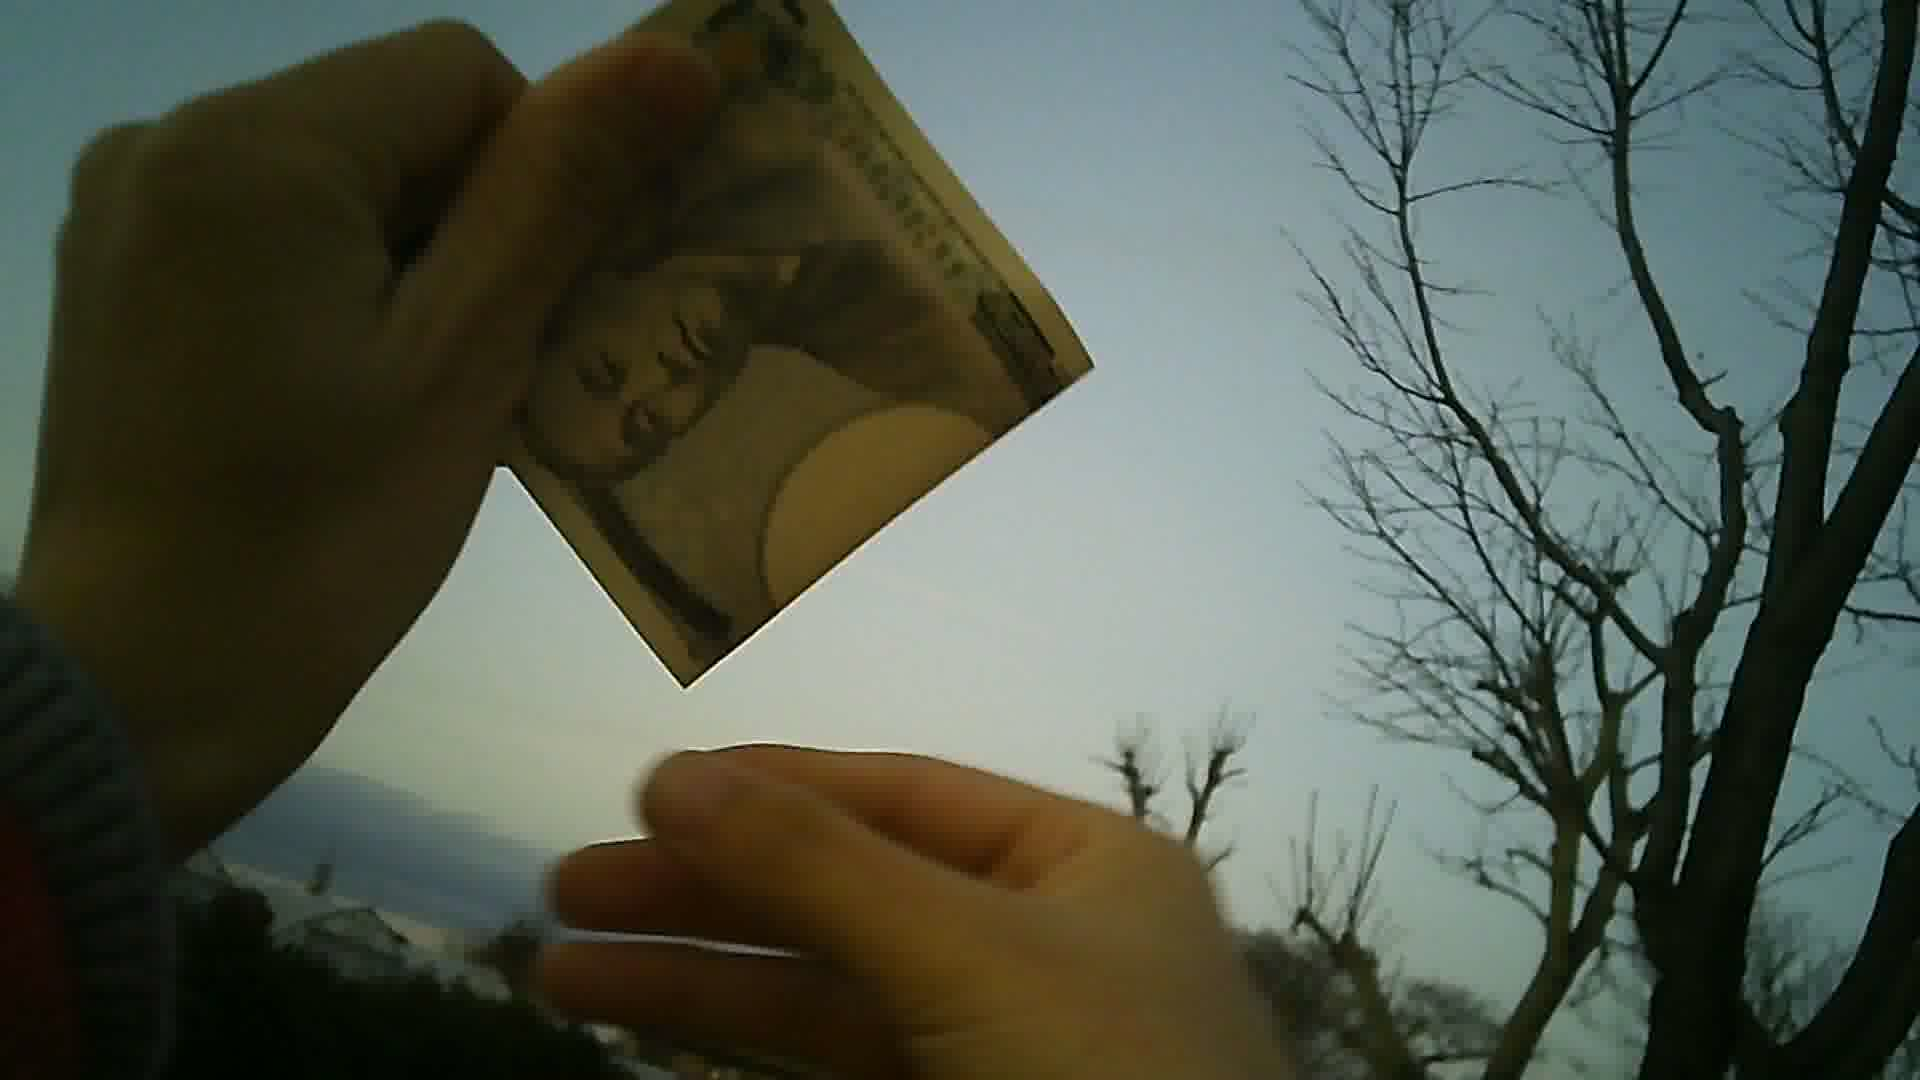10,000 Yen: (433, 29, 1098, 713)
